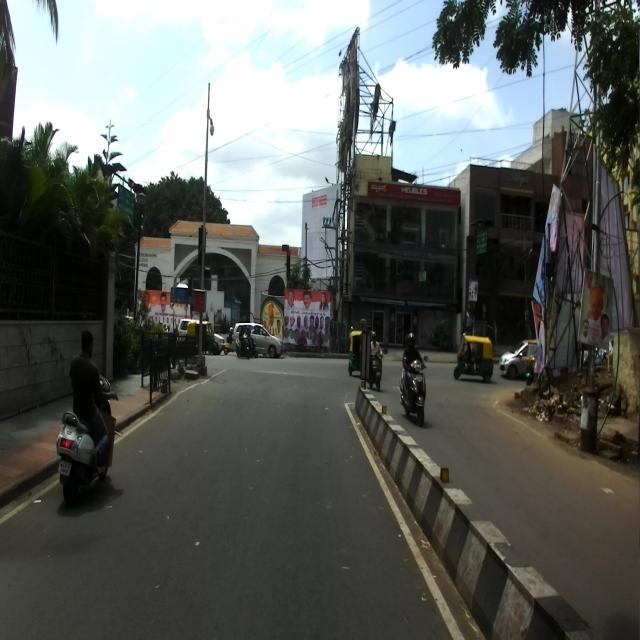scooter: (56, 368, 116, 505), (397, 354, 429, 429)
